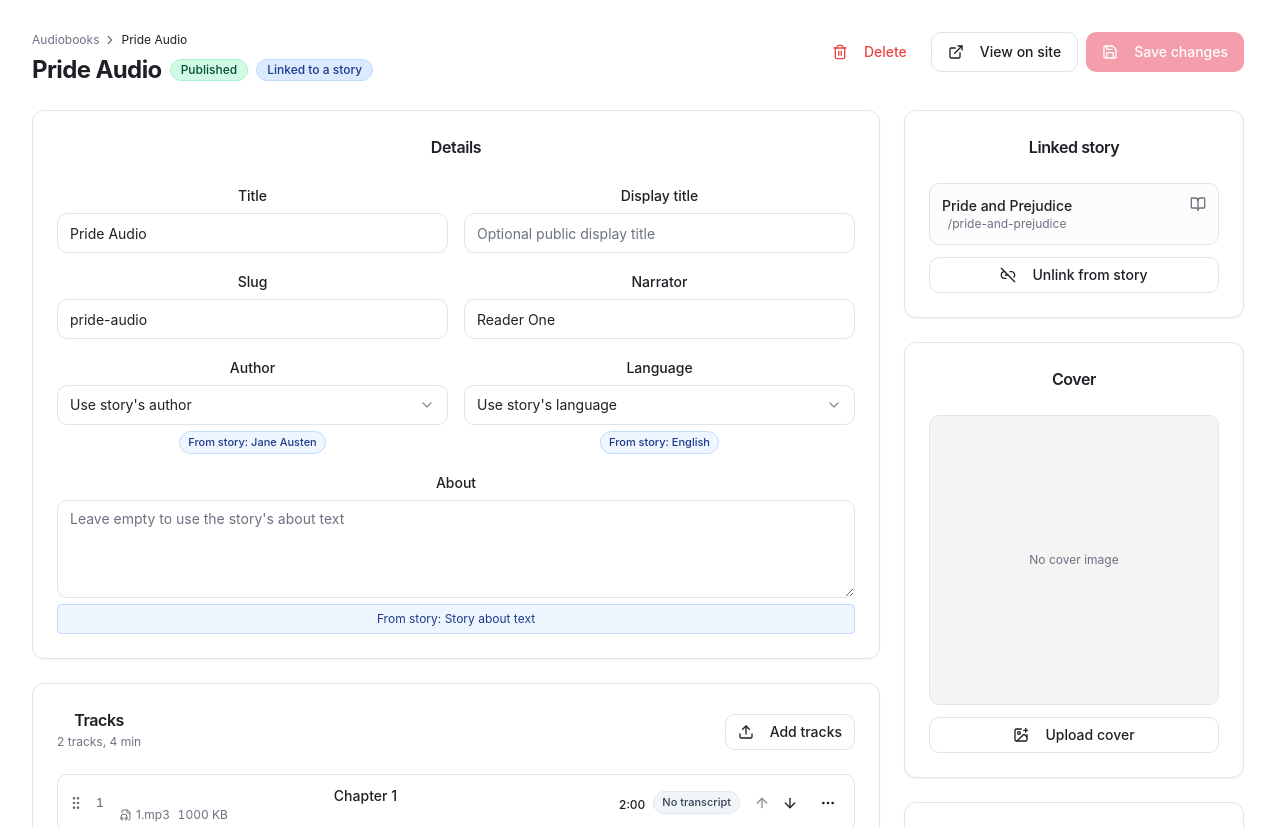
Scenario: Admin Audiobooks UI › blocks unlinking a story when author, language, or about are empty
Click the button "Unlink from story". click: (1074, 275)
box: [929,257,1219,293]
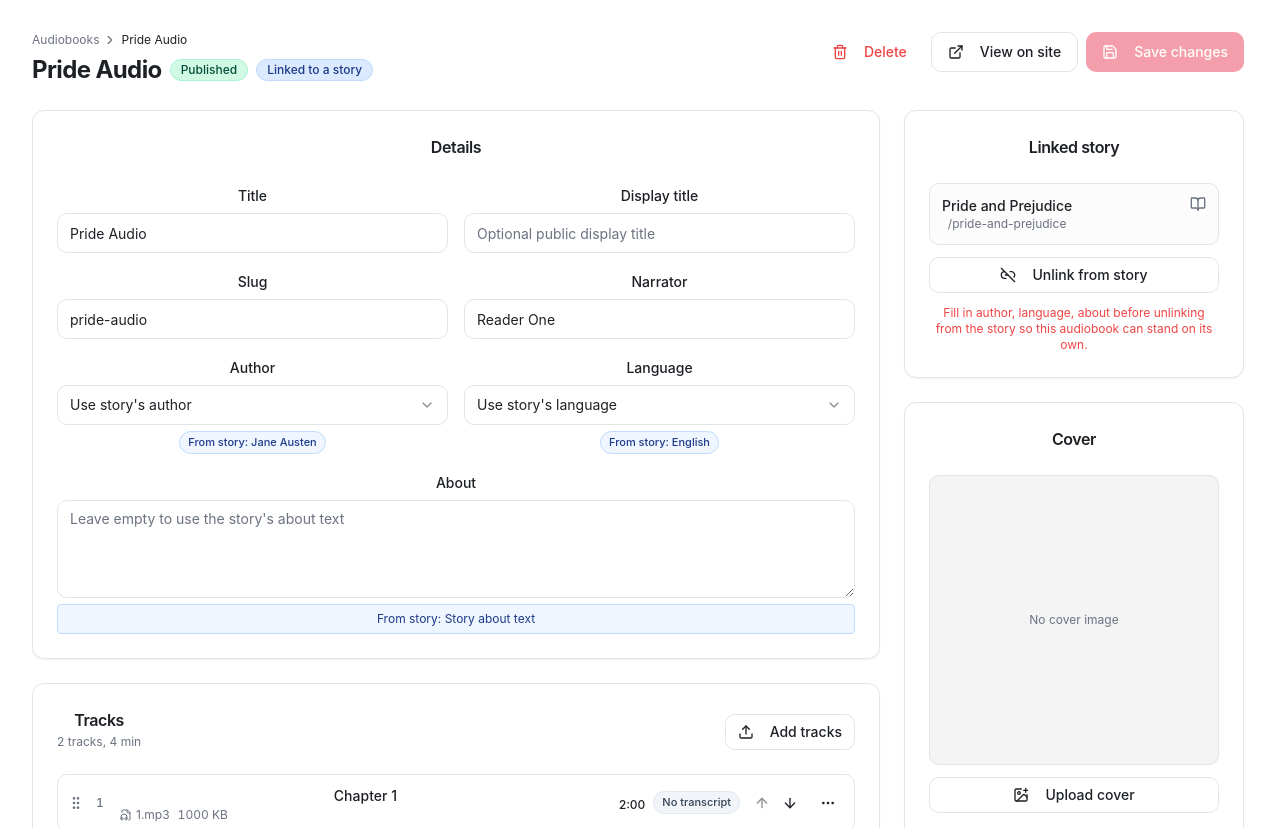
Expected: the message shows "author", [936,305,1212,352]
Expected: the message shows "language", [936,305,1212,352]
Expected: the message shows "about", [936,305,1212,352]
